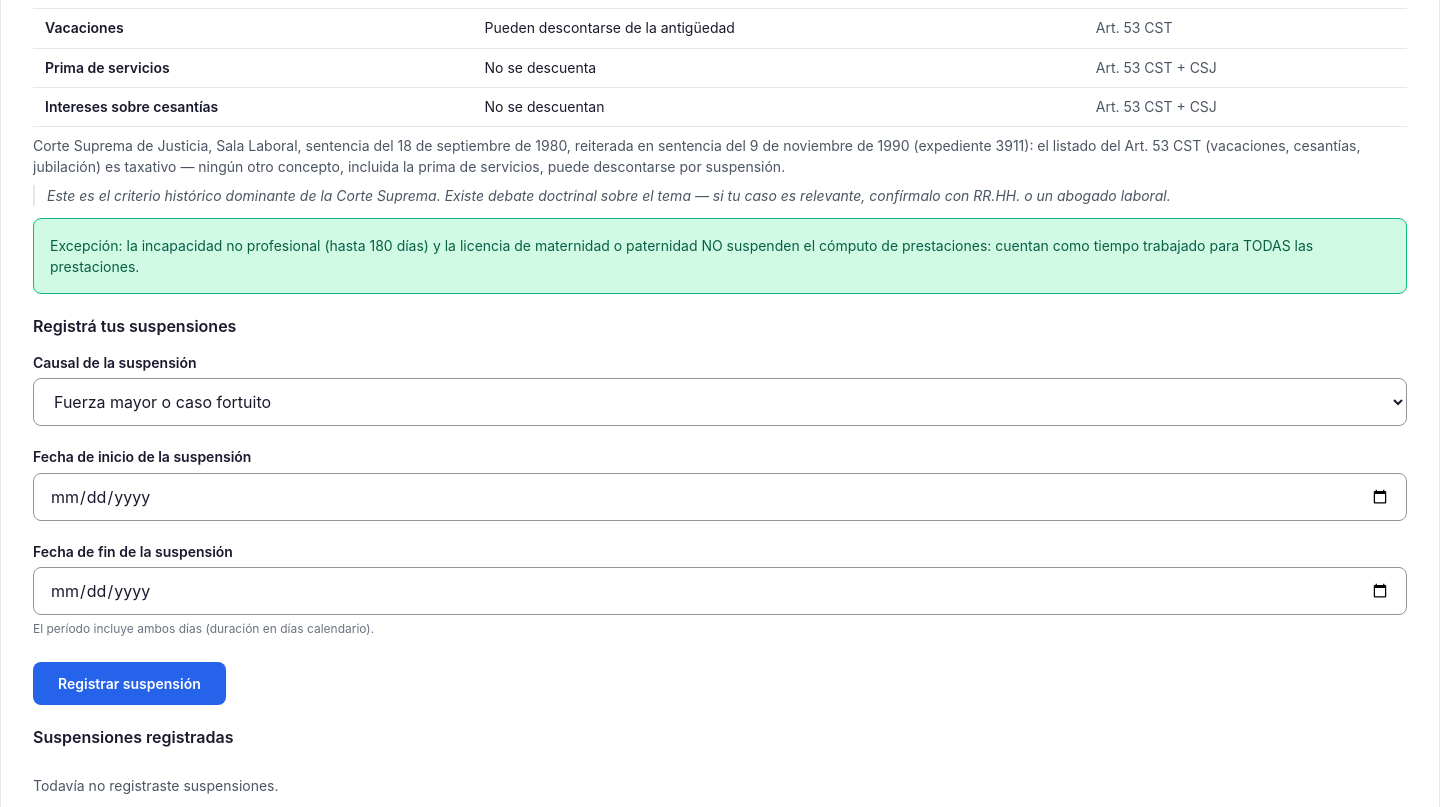
SuspensionSection — registry CRUD + persistence (REQ-4) › rejects an end date before the start date with a validation error and does not persist
(page scrolled)
Select "Fuerza mayor o caso fortuito" in the dropdown labelled "Causal de la suspensión" at (720, 402), box [33,378,1407,426]
Type "2026-01-10" into the date field labelled "Fecha de inicio de la suspensión" at (720, 497), box [33,473,1407,521]
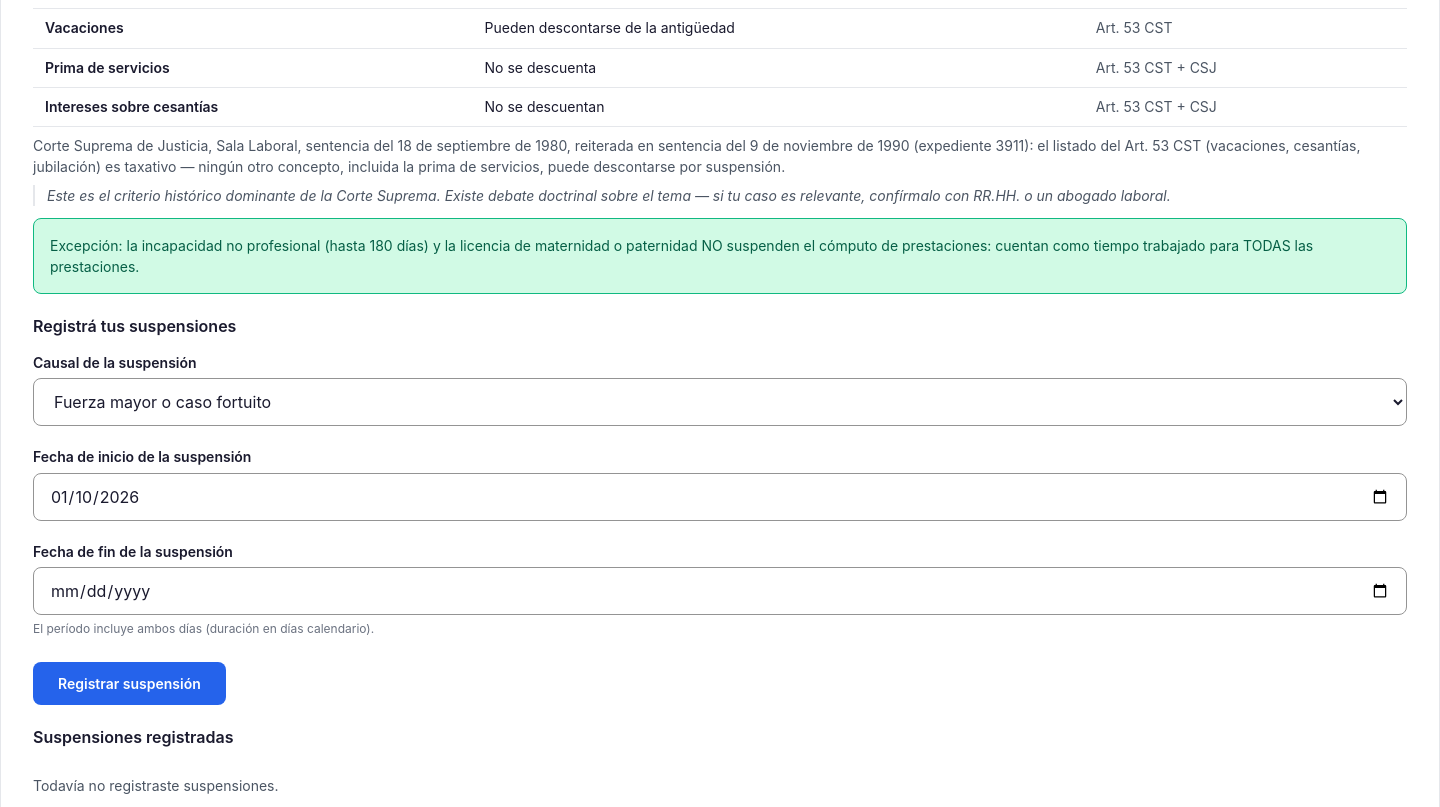
Type "2026-01-05" into the date field labelled "Fecha de fin de la suspensión" at (720, 591), box [33,567,1407,615]
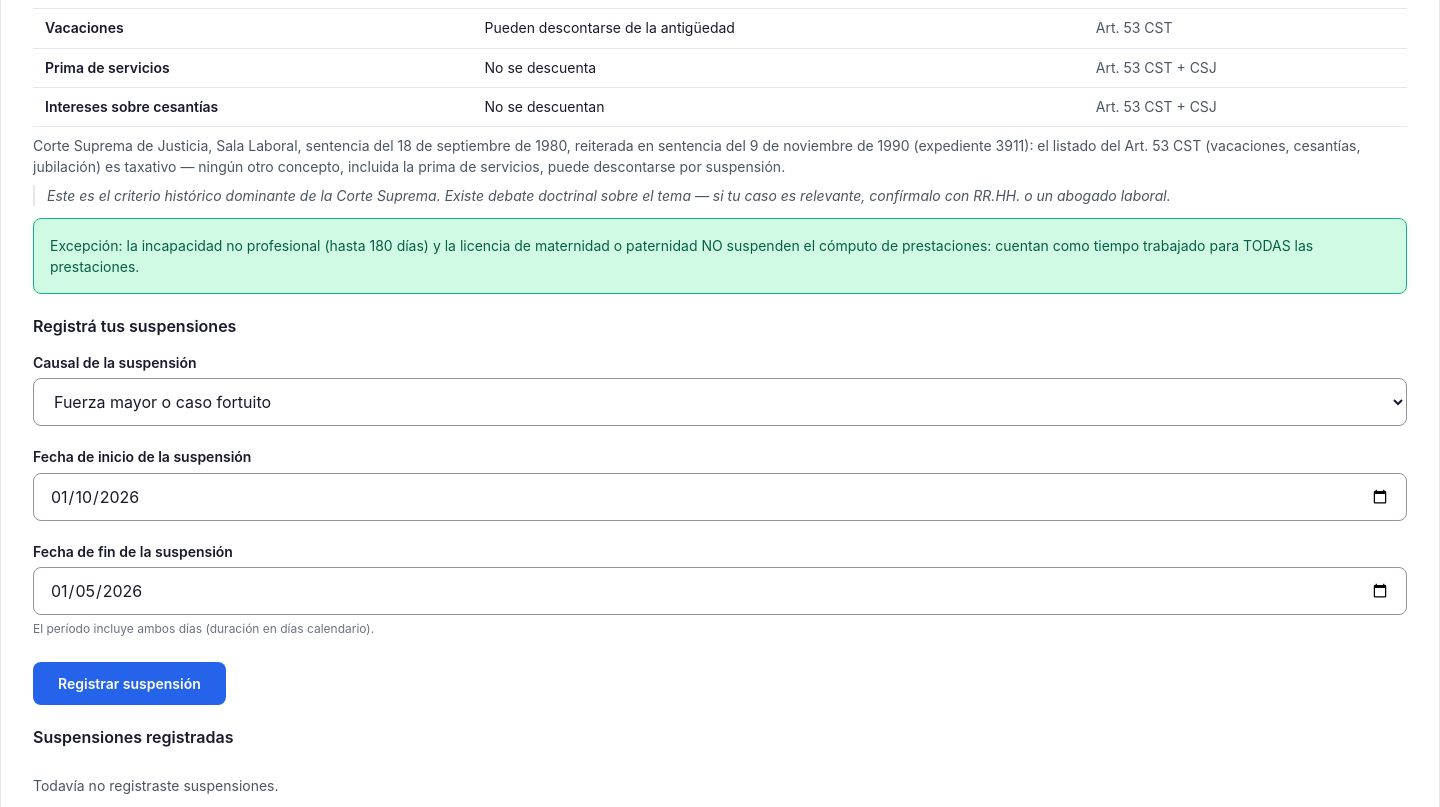
Click the button "Registrar suspensión" at (129, 684), box [33,662,226,705]
(page scrolled)
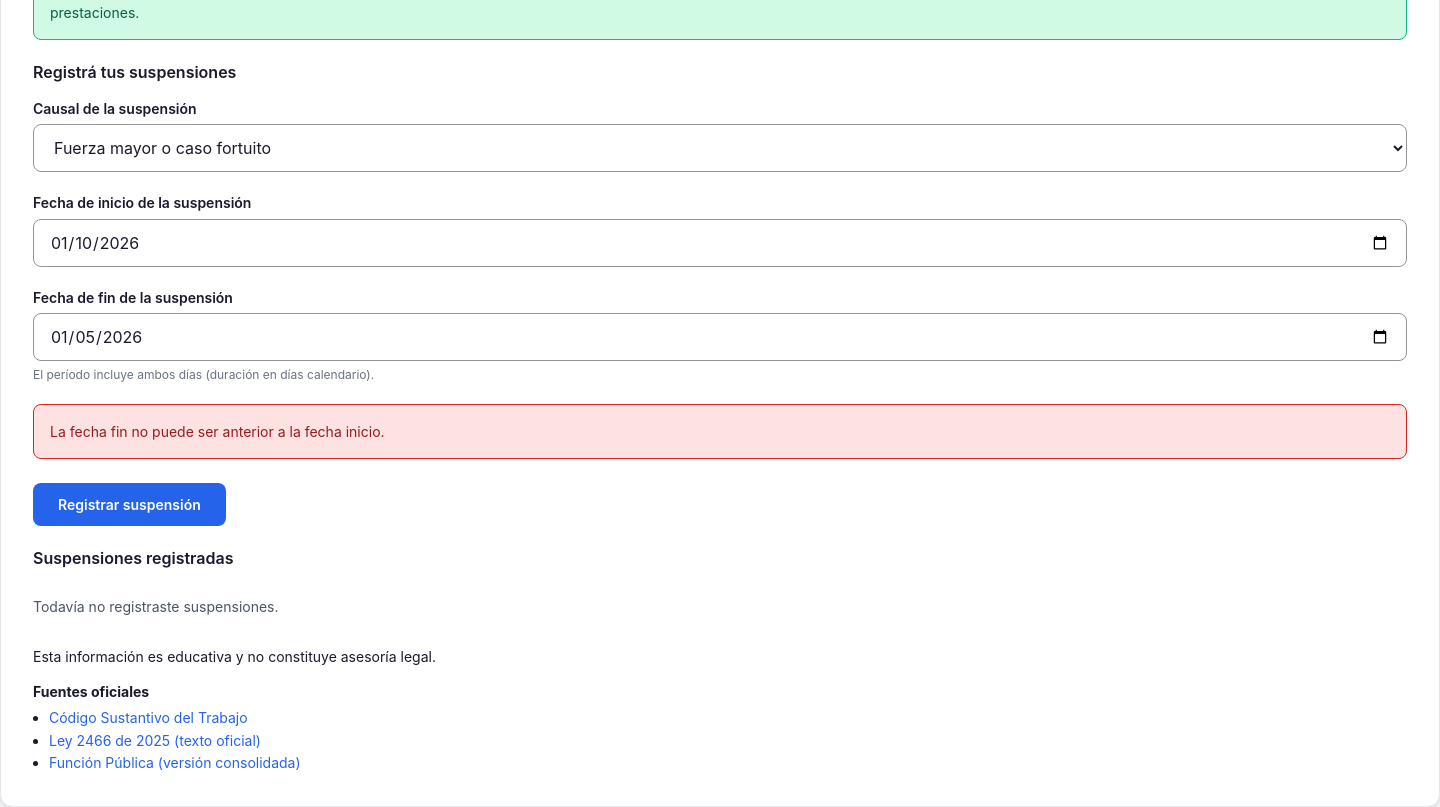
Expected: the text "Todavía no registraste suspensiones." is shown, [33,598,278,615]
Expected: the message reads "La fecha fin no puede ser anterior a la fecha inicio.", [50,423,385,440]
